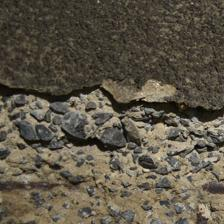Crack: (1, 38, 222, 86)
